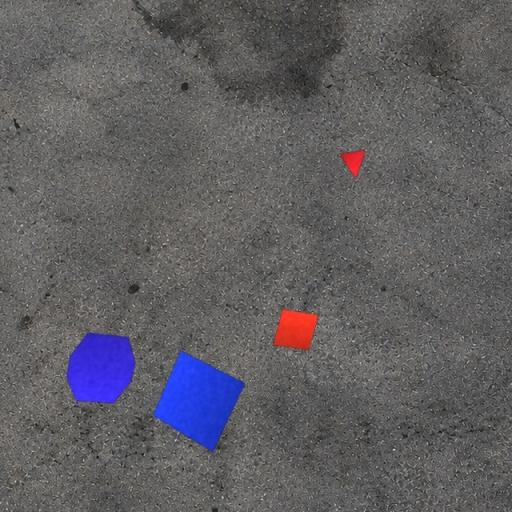BLUE_SQUARE: (152, 350, 246, 452)
RED_SQUARE: (272, 308, 319, 351)
